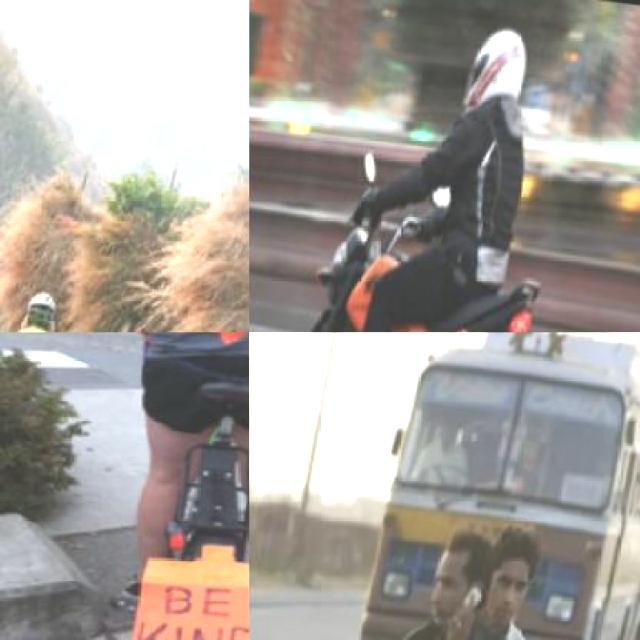With Helmet: (459, 22, 535, 133), (22, 284, 63, 330)
Without Helmet: (426, 517, 508, 638), (479, 515, 548, 636)
